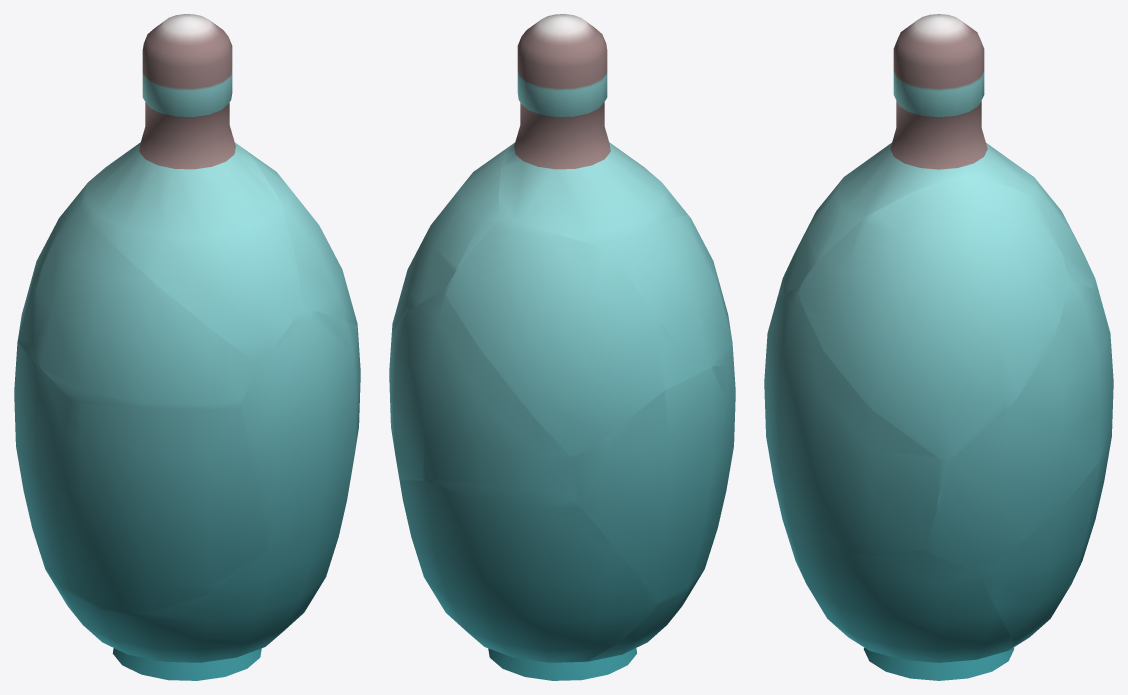
The model's file is Brake_Water_Jugs.FBX.
3 views of the same model, side by side, from view 1: azimuth 30°, elevation 25°; view 2: azimuth 150°, elevation 25°; view 3: azimuth 270°, elevation 25° (orthographic).
Parts seen in each view (by area): view 1: Water_Jugs_Part_5, Water_Jugs_Part_4, Water_Jugs_Part_9, Water_Jugs_Part_8, Water_Jugs_Part_7, Water_Jugs_Part_2, Water_Jugs_Part_6, Water_Jugs_Part_3; view 2: Water_Jugs_Part_3, Water_Jugs_Part_1, Water_Jugs_Part_5, Water_Jugs_Part_2, Water_Jugs_Part_10, Water_Jugs_Part_9, Water_Jugs_Part_6, Water_Jugs_Part_7, Water_Jugs_Part_4; view 3: Water_Jugs_Part_6, Water_Jugs_Part_8, Water_Jugs_Part_10, Water_Jugs_Part_5, Water_Jugs_Part_7, Water_Jugs_Part_1, Water_Jugs_Part_3.
Part boxes in pixels (bbox=[...]): Water_Jugs_Part_5: bbox=[77, 14, 301, 363]; Water_Jugs_Part_4: bbox=[57, 400, 268, 612]; Water_Jugs_Part_9: bbox=[34, 202, 258, 409]; Water_Jugs_Part_8: bbox=[239, 308, 360, 550]; Water_Jugs_Part_7: bbox=[47, 518, 342, 680]; Water_Jugs_Part_2: bbox=[14, 341, 71, 588]; Water_Jugs_Part_6: bbox=[240, 146, 358, 333]; Water_Jugs_Part_3: bbox=[17, 166, 106, 343]; Water_Jugs_Part_3: bbox=[444, 218, 690, 457]; Water_Jugs_Part_1: bbox=[399, 479, 658, 662]; Water_Jugs_Part_5: bbox=[498, 14, 687, 249]; Water_Jugs_Part_2: bbox=[572, 362, 727, 601]; Water_Jugs_Part_10: bbox=[389, 291, 574, 499]; Water_Jugs_Part_9: bbox=[607, 215, 733, 366]; Water_Jugs_Part_6: bbox=[391, 145, 510, 335]; Water_Jugs_Part_7: bbox=[462, 568, 704, 680]; Water_Jugs_Part_4: bbox=[694, 355, 735, 577]; Water_Jugs_Part_6: bbox=[798, 179, 1068, 461]; Water_Jugs_Part_8: bbox=[764, 288, 946, 555]; Water_Jugs_Part_10: bbox=[923, 282, 1113, 571]; Water_Jugs_Part_5: bbox=[778, 14, 1034, 295]; Water_Jugs_Part_7: bbox=[776, 491, 1017, 680]; Water_Jugs_Part_1: bbox=[980, 421, 1112, 644]; Water_Jugs_Part_3: bbox=[1030, 175, 1099, 292].
Bounding box in the file's own units: 7.34 × 14.61 × 7.34.
Materials: 1 (1 with a texture image).
